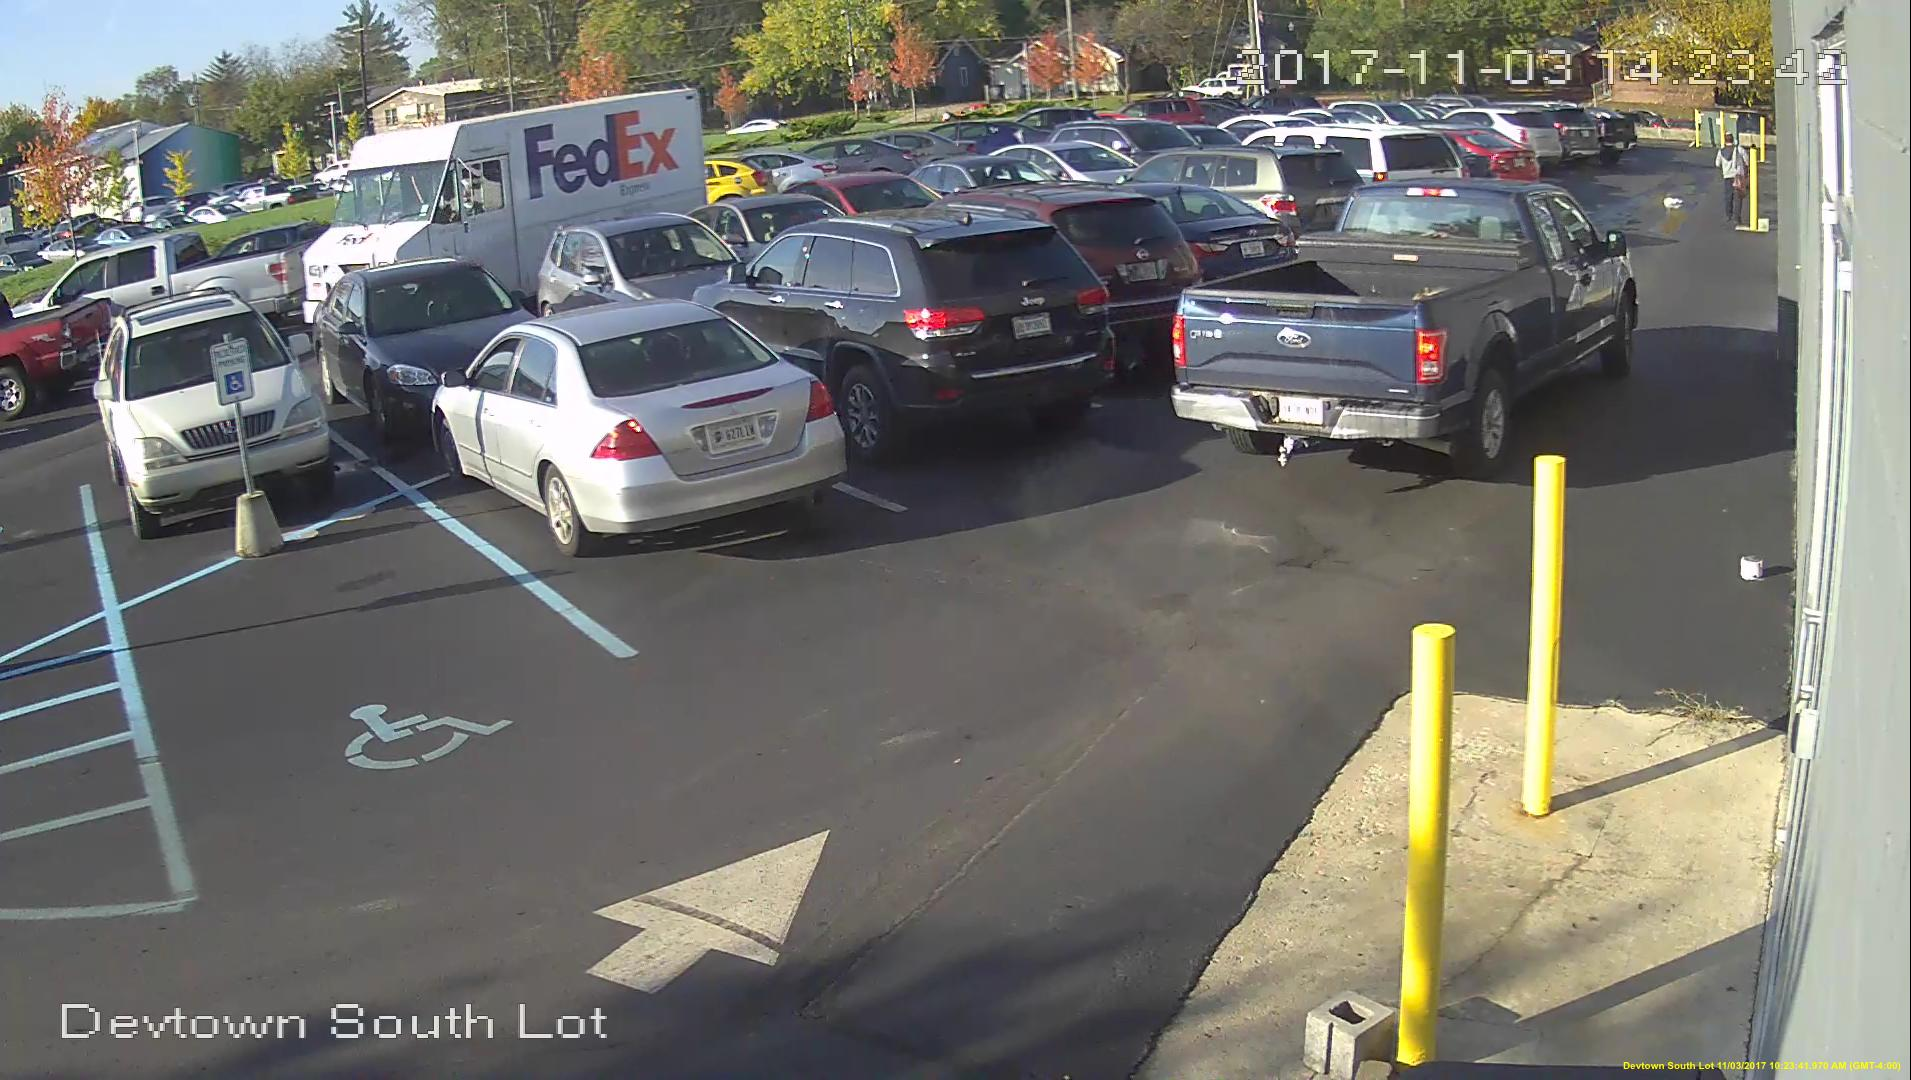fedex_truck: (298, 91, 711, 322)
